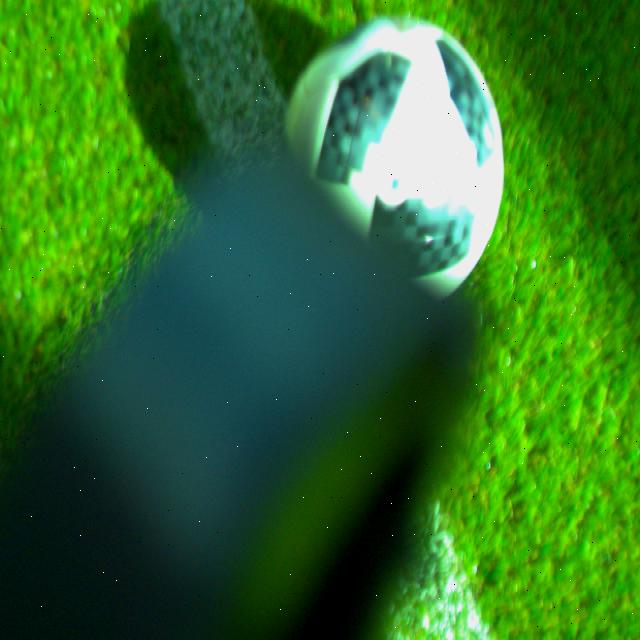ball: (284, 16, 505, 311)
